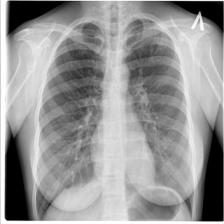tuberculosis: (32, 17, 198, 221)
